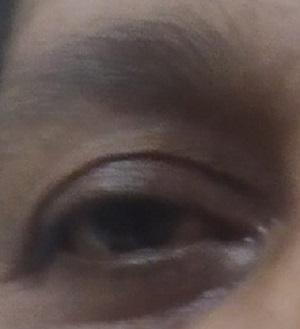open: (7, 155, 288, 329)
